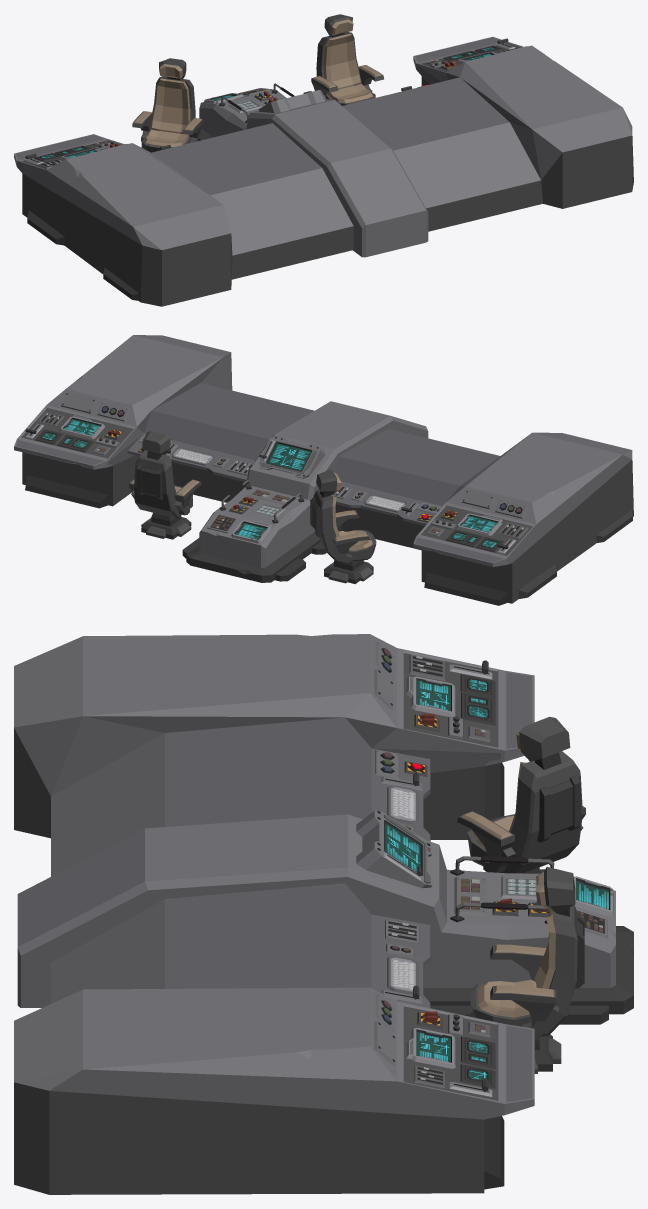
Rendered from controlDeck.glb.
The picture shows the model from 3 angles, top to bottom: view 1: azimuth 30°, elevation 25°; view 2: azimuth 150°, elevation 25°; view 3: azimuth 270°, elevation 25°; orthographic projection. The views are drawn at different scales.
Parts seen in each view (by area): view 1: SM_Bld_Bridge_Console_02, SM_Bld_Bridge_Chair_Captain_01, SM_Bld_Bridge_Chair_Captain_01.001; view 2: SM_Bld_Bridge_Console_02, SM_Bld_Bridge_Chair_Captain_01.001, SM_Bld_Bridge_Chair_Captain_01; view 3: SM_Bld_Bridge_Console_02, SM_Bld_Bridge_Chair_Captain_01, SM_Bld_Bridge_Chair_Captain_01.001.
Part boxes in pixels (bbox=[...]): SM_Bld_Bridge_Console_02: bbox=[14, 36, 633, 306]; SM_Bld_Bridge_Chair_Captain_01: bbox=[132, 58, 203, 152]; SM_Bld_Bridge_Chair_Captain_01.001: bbox=[311, 14, 383, 105]; SM_Bld_Bridge_Console_02: bbox=[14, 335, 633, 605]; SM_Bld_Bridge_Chair_Captain_01.001: bbox=[129, 431, 201, 539]; SM_Bld_Bridge_Chair_Captain_01: bbox=[310, 469, 376, 584]; SM_Bld_Bridge_Console_02: bbox=[14, 634, 633, 1194]; SM_Bld_Bridge_Chair_Captain_01: bbox=[457, 716, 585, 873]; SM_Bld_Bridge_Chair_Captain_01.001: bbox=[470, 866, 584, 1073].
Size of the model in its own units: 8.18 by 1.61 by 4.87.
1 material, 1 textured.
